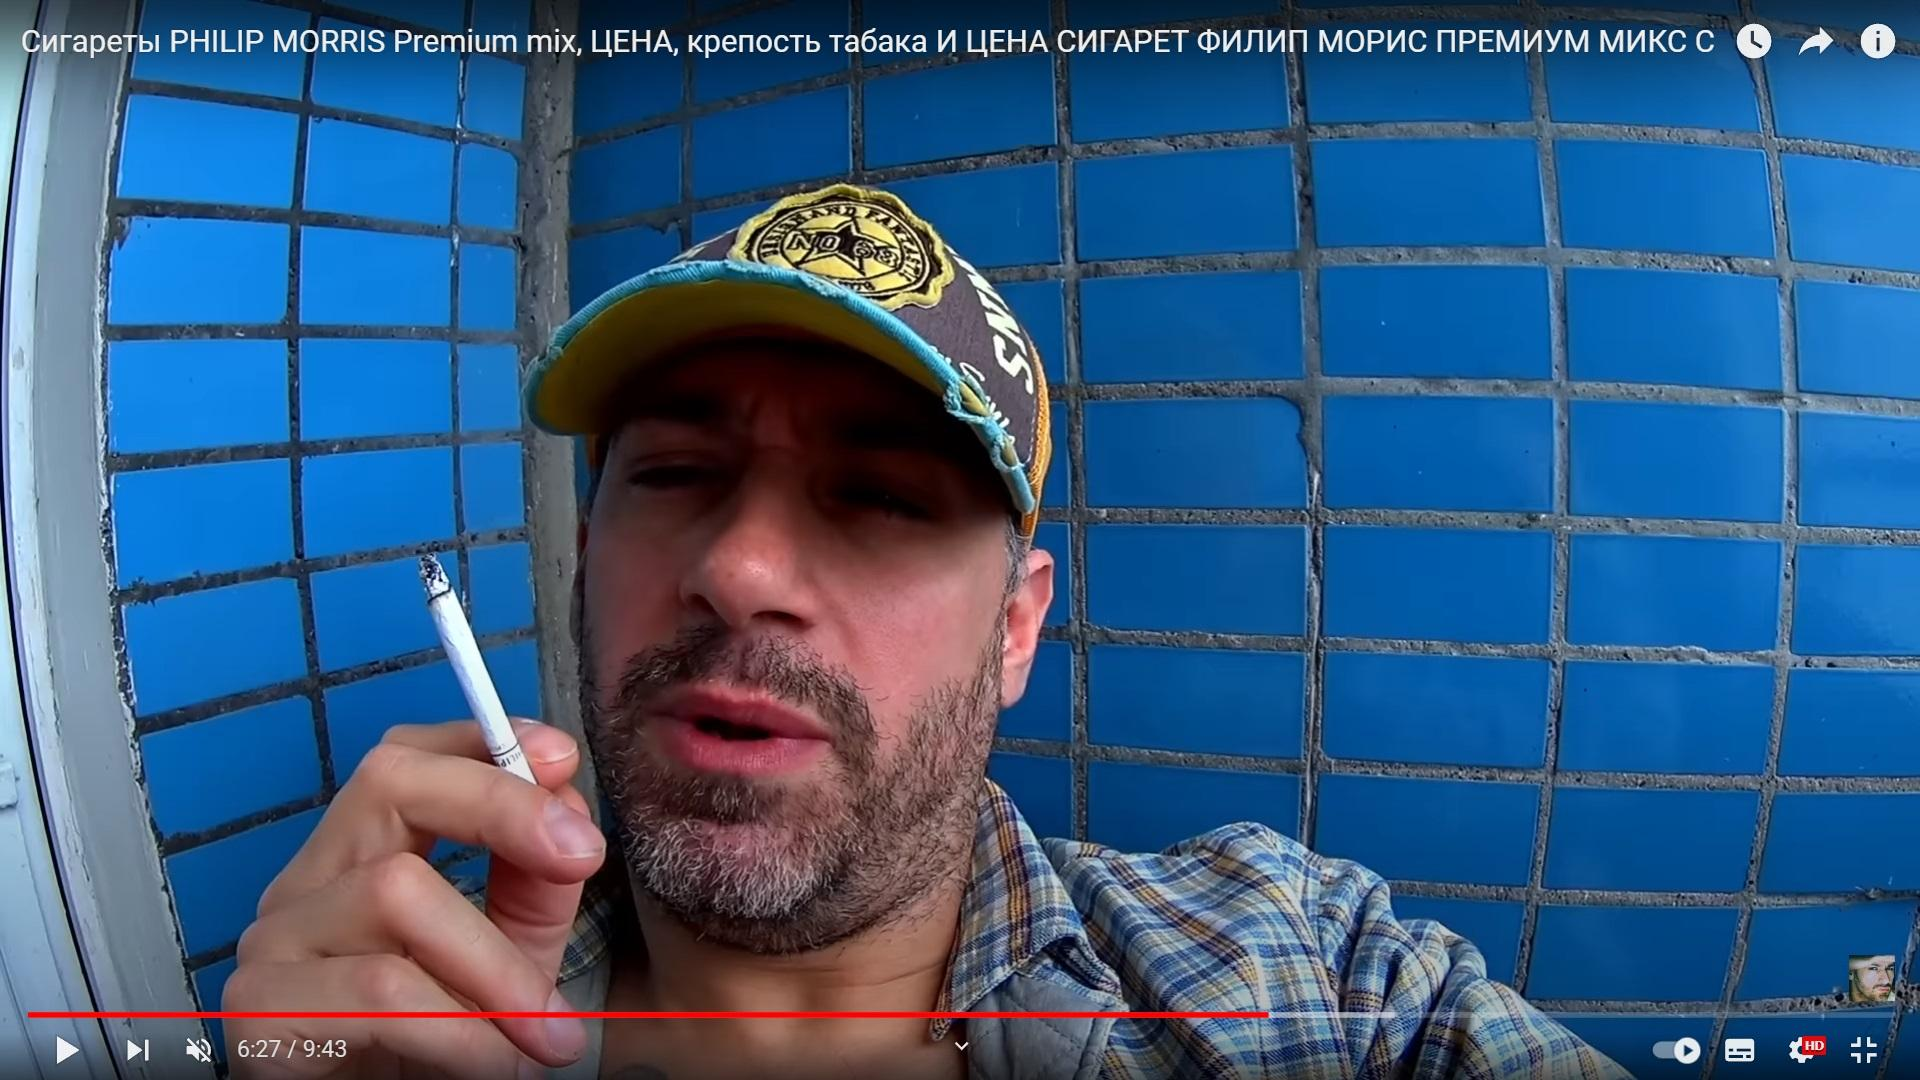cigarette: (418, 553, 537, 786)
